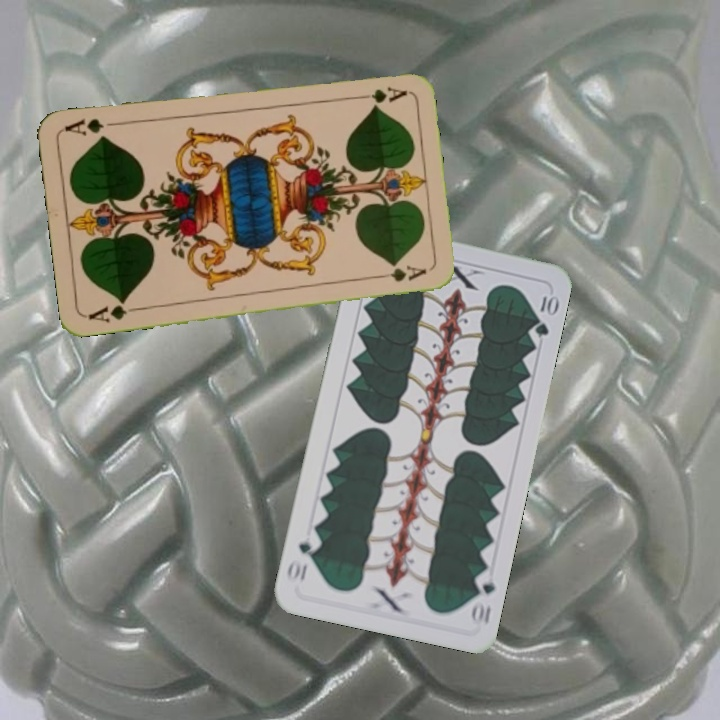G10: (467, 568, 498, 627)
GA: (84, 296, 143, 325), (349, 83, 409, 105)
